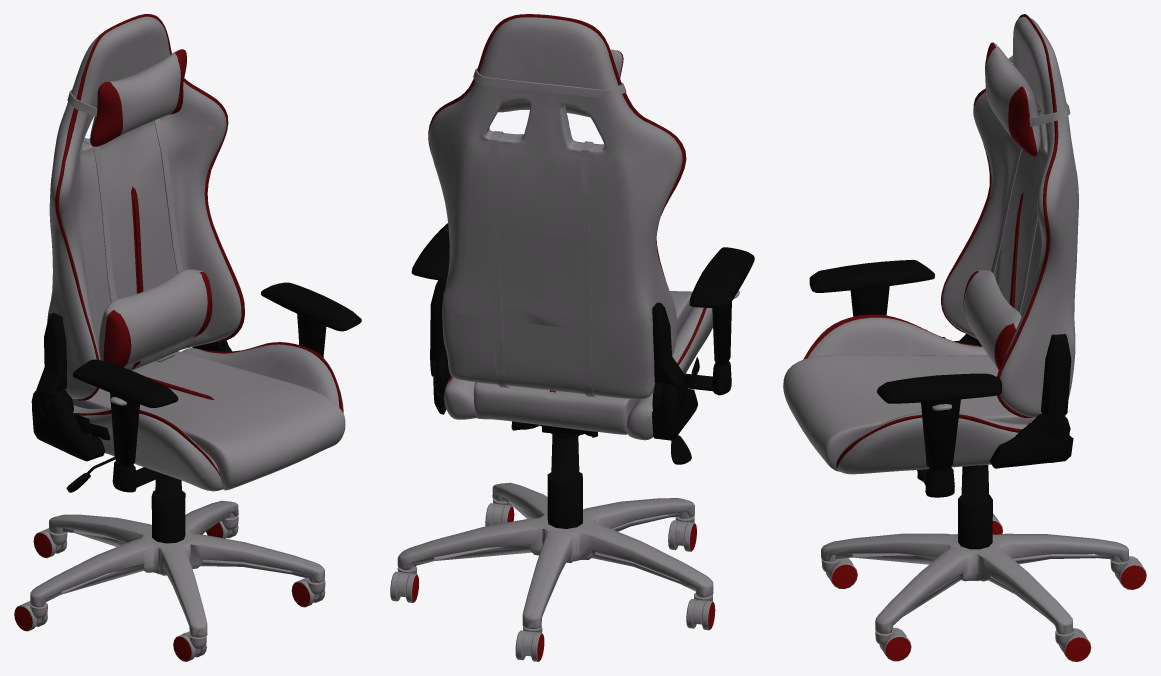
File: ergoflex-gamer-chair.glb
3 views of the same model, side by side, from view 1: azimuth 30°, elevation 25°; view 2: azimuth 150°, elevation 25°; view 3: azimuth 270°, elevation 25° (orthographic). The views are drawn at different scales.
Parts seen in each view (by area): view 1: Mesh_0; view 2: Mesh_0; view 3: Mesh_0.
Part boxes in pixels (box(x1,y1,x2,y2)): Mesh_0: box(14, 14, 361, 661); Mesh_0: box(390, 14, 754, 661); Mesh_0: box(783, 14, 1146, 661).
Bounding box in the file's own units: 0.8237 × 1.5 × 0.8607.
Materials: 1 (1 with a texture image).
